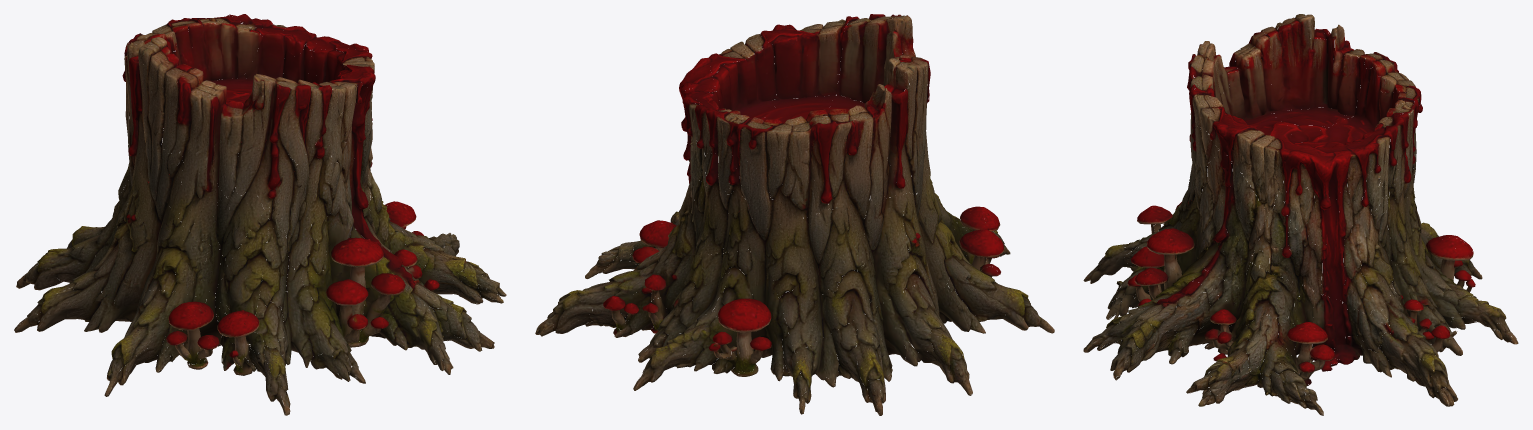
Rendered from sap-well-tripo.glb.
The picture shows the model from 3 angles, left to right: view 1: azimuth 30°, elevation 25°; view 2: azimuth 150°, elevation 25°; view 3: azimuth 270°, elevation 25°; orthographic projection. The views are drawn at different scales.
Visible parts, largest first — view 1: tripo_node_045fbc28-0752-47f9-86df-fc8d007f4d15; view 2: tripo_node_045fbc28-0752-47f9-86df-fc8d007f4d15; view 3: tripo_node_045fbc28-0752-47f9-86df-fc8d007f4d15.
Part boxes in pixels (x1=…): tripo_node_045fbc28-0752-47f9-86df-fc8d007f4d15: x1=14, y1=14, x2=506, y2=415; tripo_node_045fbc28-0752-47f9-86df-fc8d007f4d15: x1=535, y1=14, x2=1054, y2=415; tripo_node_045fbc28-0752-47f9-86df-fc8d007f4d15: x1=1083, y1=14, x2=1518, y2=415.
Bounding box in the file's own units: 1 × 0.6689 × 0.9927.
Materials: 1 (1 with a texture image).
